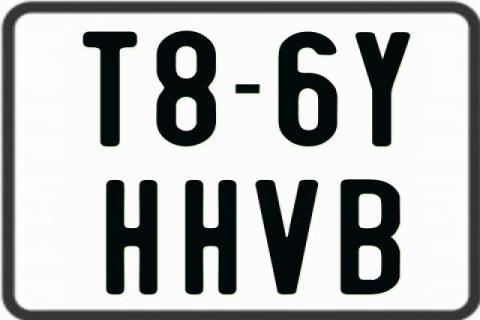0: (154, 29, 219, 148), (275, 31, 337, 147)
B: (341, 178, 403, 294)
H: (106, 179, 161, 299), (184, 178, 236, 294)
T: (80, 31, 134, 147)
V: (256, 180, 322, 299)
Y: (354, 30, 412, 146)
